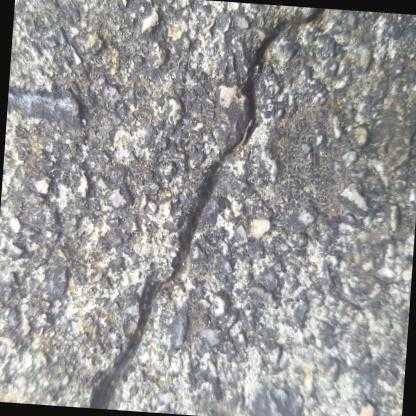crack: (82, 5, 333, 410)
